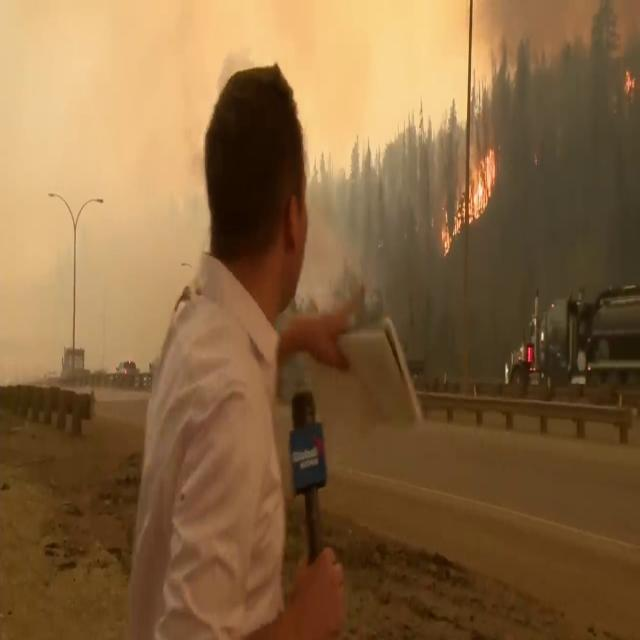Fire: (460, 138, 498, 235), (437, 196, 464, 254)
Smoke: (482, 0, 640, 244), (293, 148, 402, 315)
